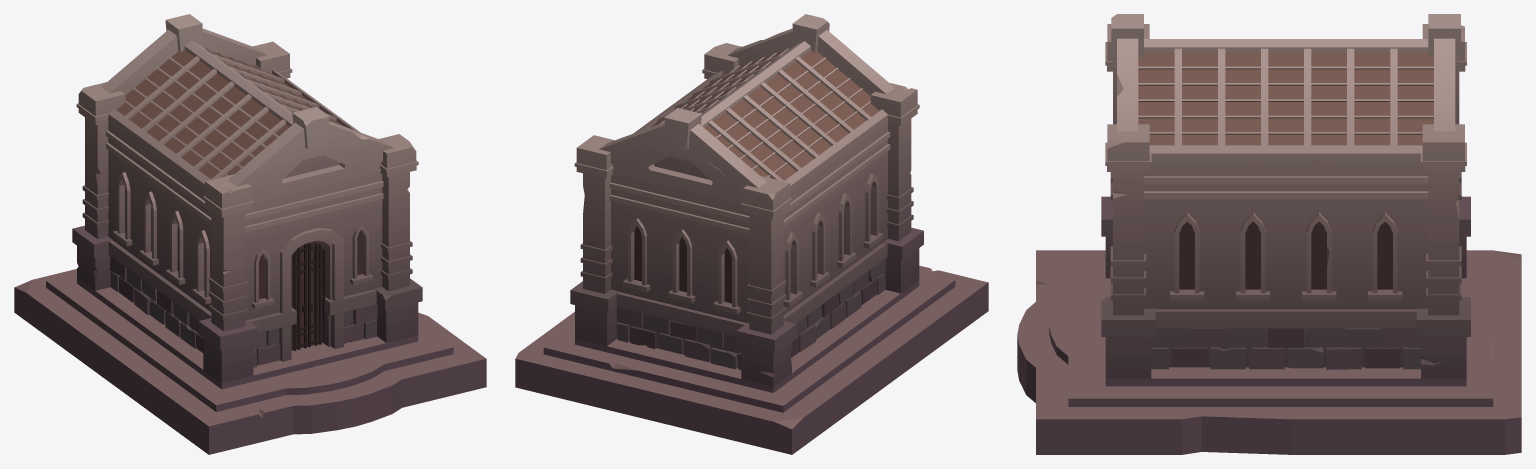
The model's file is nexus.glb.
3 renders of one model, left to right at view 1: azimuth 30°, elevation 25°; view 2: azimuth 150°, elevation 25°; view 3: azimuth 270°, elevation 25°, orthographic. The views are drawn at different scales.
Visible parts, largest first — view 1: mausoleumLarge; view 2: mausoleumLarge; view 3: mausoleumLarge.
Boxes of the visible parts, <box> form: mausoleumLarge: <box>14,14,486,454</box>; mausoleumLarge: <box>515,14,988,454</box>; mausoleumLarge: <box>1017,14,1521,454</box>.
Bounding box in the file's own units: 7.32 × 7.04 × 9.22.
1 material, 1 textured.
